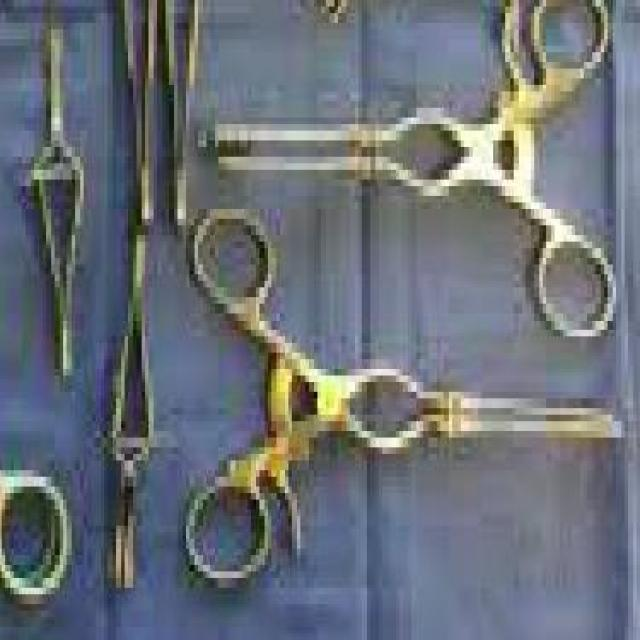Bulldog: (21, 17, 92, 386), (102, 225, 160, 604)
Forceps: (160, 0, 205, 235), (118, 0, 160, 229)
Weitlaner: (181, 202, 630, 604), (205, 3, 620, 353)
